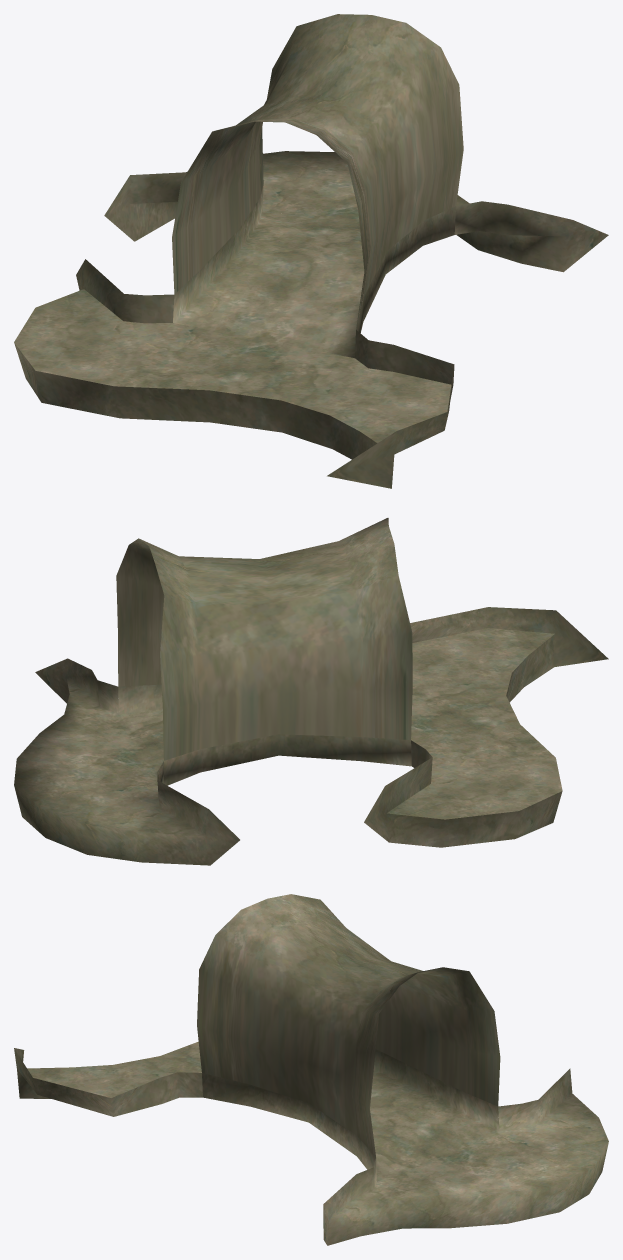
Rendered from EKH_CAVERNS_PS_CA_TUNNEL_48447__GX.fbx.
3 renders of one model, top to bottom at view 1: azimuth 30°, elevation 25°; view 2: azimuth 150°, elevation 25°; view 3: azimuth 270°, elevation 25°, orthographic. The views are drawn at different scales.
Visible parts, largest first — view 1: EKH_CAVERNS_PS_CA_TUNNEL_48447__GX; view 2: EKH_CAVERNS_PS_CA_TUNNEL_48447__GX; view 3: EKH_CAVERNS_PS_CA_TUNNEL_48447__GX.
Part boxes in pixels (bbox=[...]): EKH_CAVERNS_PS_CA_TUNNEL_48447__GX: bbox=[14, 14, 608, 488]; EKH_CAVERNS_PS_CA_TUNNEL_48447__GX: bbox=[14, 518, 608, 865]; EKH_CAVERNS_PS_CA_TUNNEL_48447__GX: bbox=[14, 894, 608, 1245].
Bounding box in the file's own units: 88816 × 37055 × 92483.
Materials: 1 (1 with a texture image).
